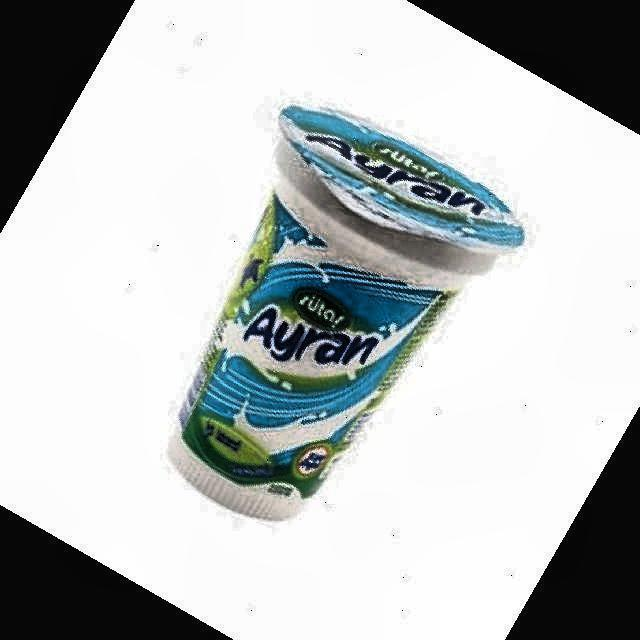plastic: (170, 106, 524, 520)
